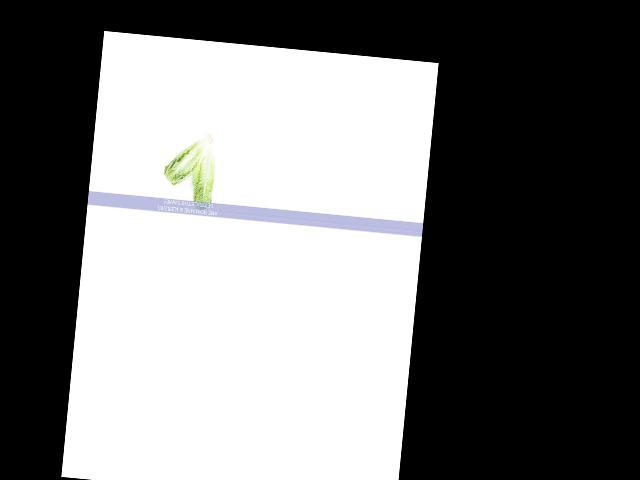lettuce: (164, 123, 214, 191)
